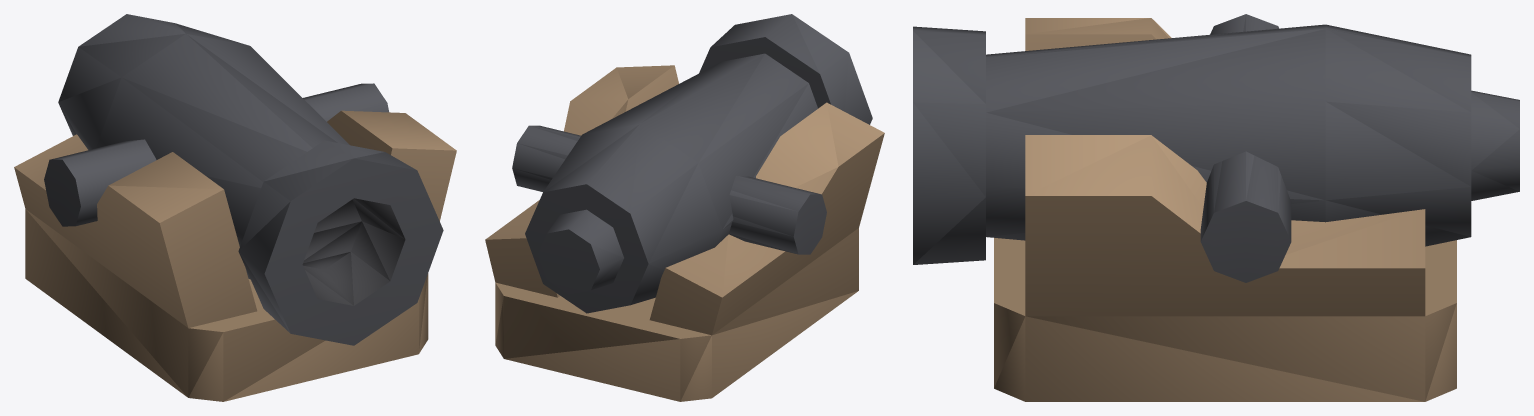
File: K_Cannon.glb
3 renders of one model, left to right at view 1: azimuth 30°, elevation 25°; view 2: azimuth 150°, elevation 25°; view 3: azimuth 270°, elevation 25°, orthographic. The views are drawn at different scales.
Parts seen in each view (by area): view 1: K_Cannon; view 2: K_Cannon; view 3: K_Cannon.
Boxes of the visible parts, bbox=[...] form: K_Cannon: bbox=[14, 14, 456, 401]; K_Cannon: bbox=[485, 14, 884, 401]; K_Cannon: bbox=[913, 14, 1519, 401].
Size of the model in its own units: 1.6 by 1.2 by 2.19.
